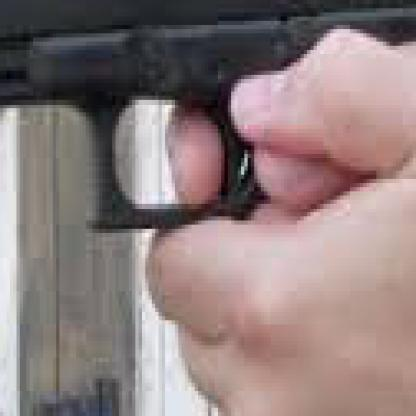gun: (0, 0, 413, 291)
